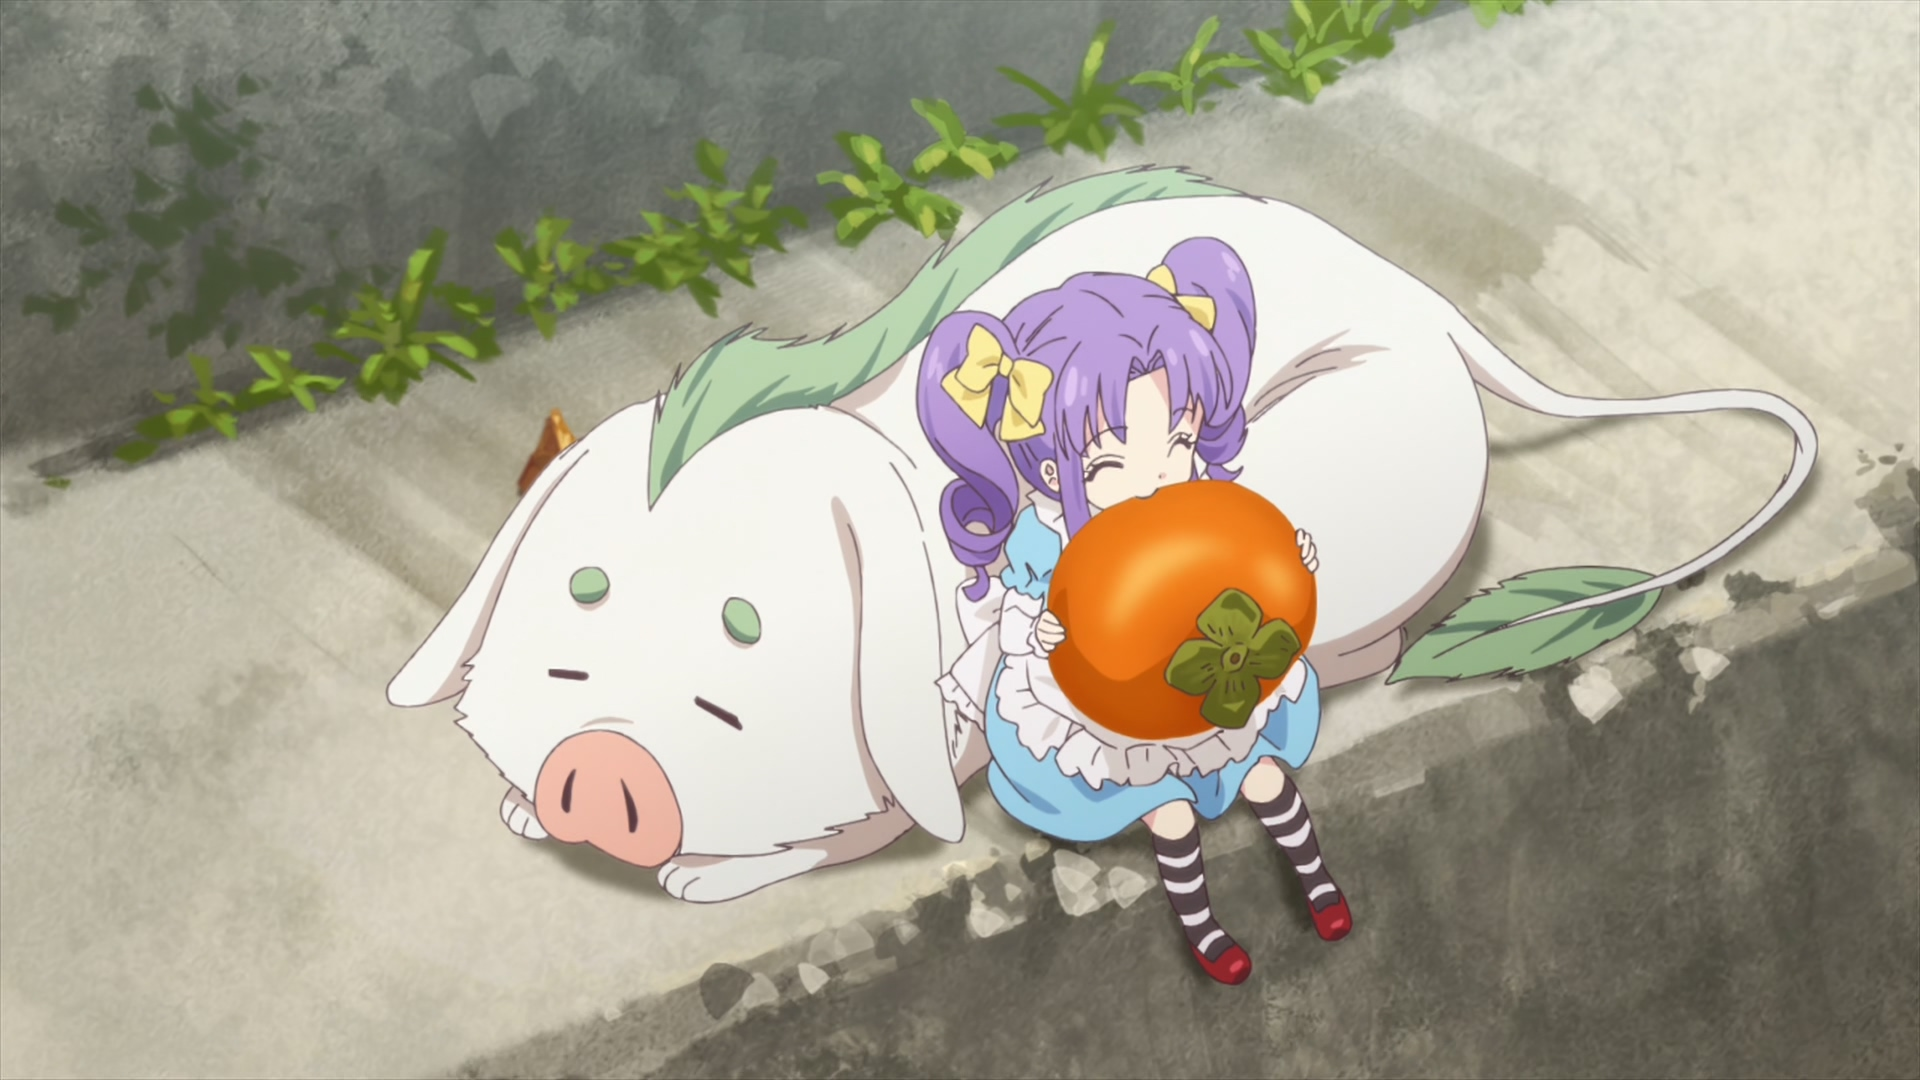瓜之介: (386, 167, 1816, 905)
阿菊: (916, 237, 1352, 986)
